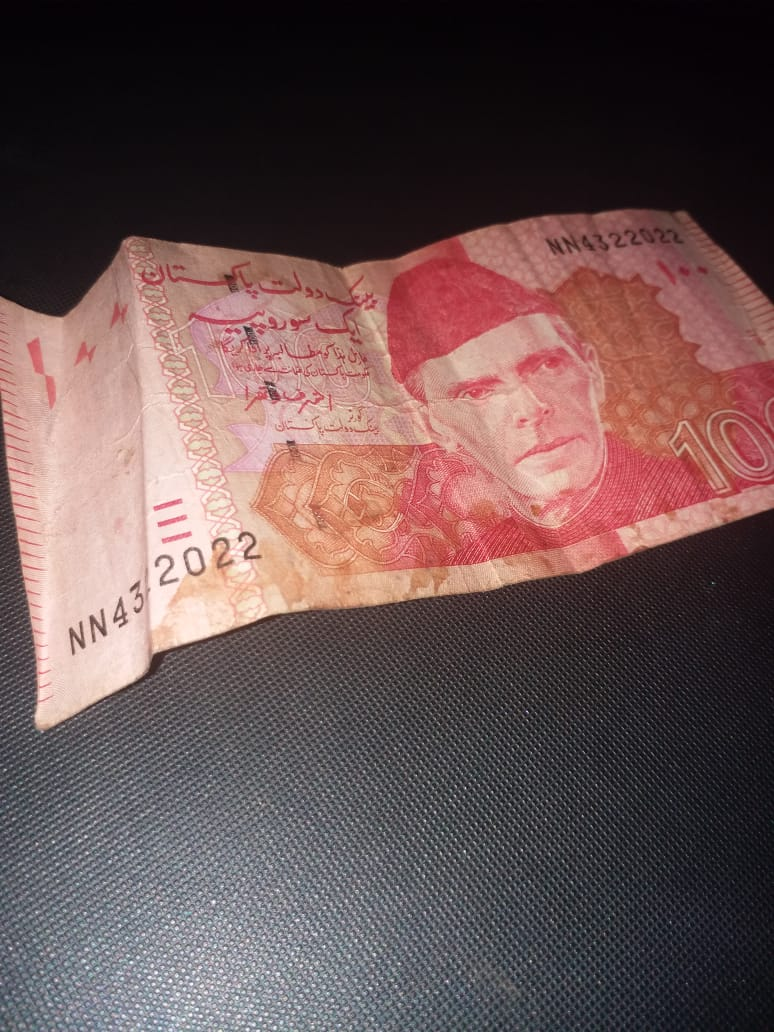100 rupee: (12, 187, 774, 707)
